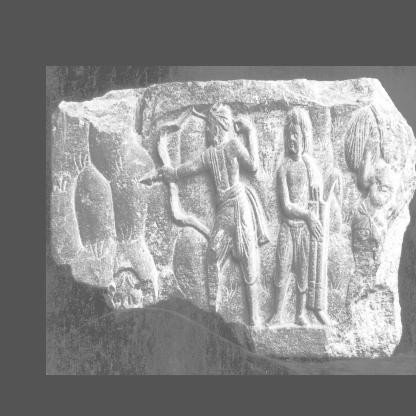buddha-standing: (269, 105, 328, 325)
